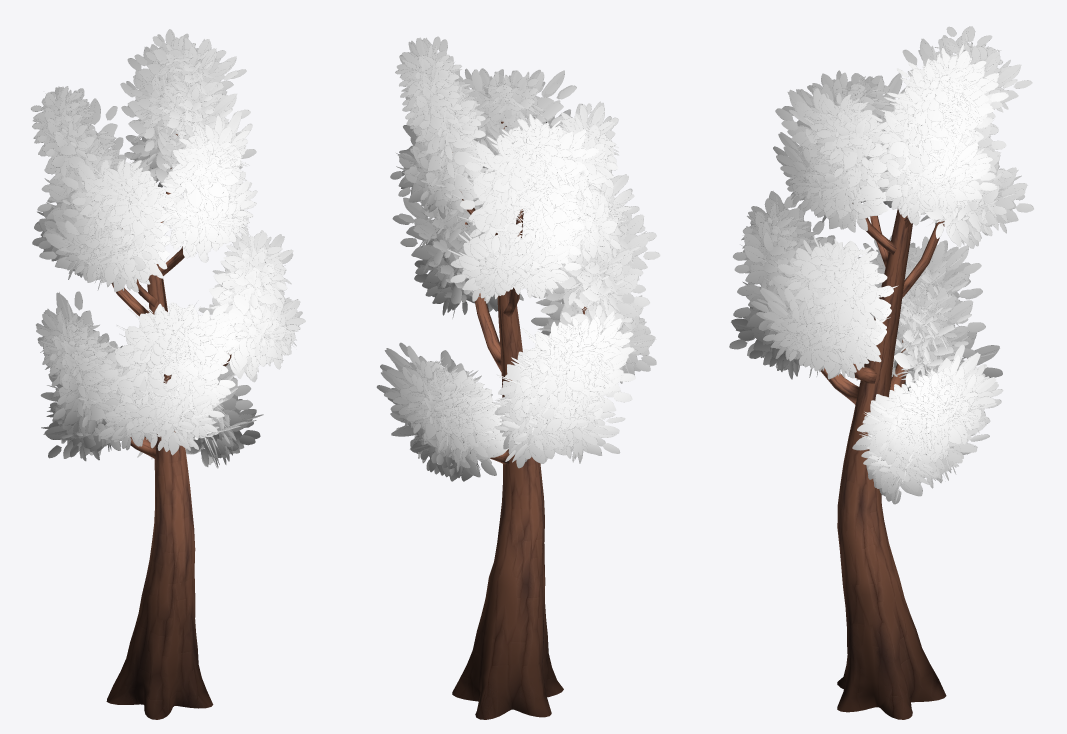
The model's file is CommonTree_3.gltf.
The picture shows the model from 3 angles, left to right: view 1: azimuth 30°, elevation 25°; view 2: azimuth 150°, elevation 25°; view 3: azimuth 270°, elevation 25°; orthographic projection. The views are drawn at different scales.
Visible parts, largest first — view 1: CommonTree_3; view 2: CommonTree_3; view 3: CommonTree_3.
Boxes of the visible parts, left/top/right/bottom form: CommonTree_3: left=30, top=29, right=305, bottom=719; CommonTree_3: left=376, top=36, right=660, bottom=719; CommonTree_3: left=729, top=26, right=1033, bottom=719.
Bounding box in the file's own units: 4.06 × 9.43 × 4.24.
Materials: 2 (2 with a texture image).
